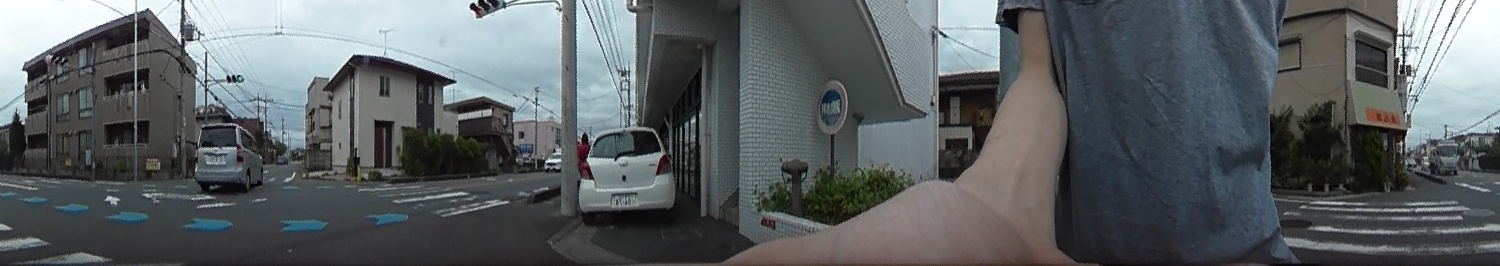difficult_person: (577, 130, 591, 160)
